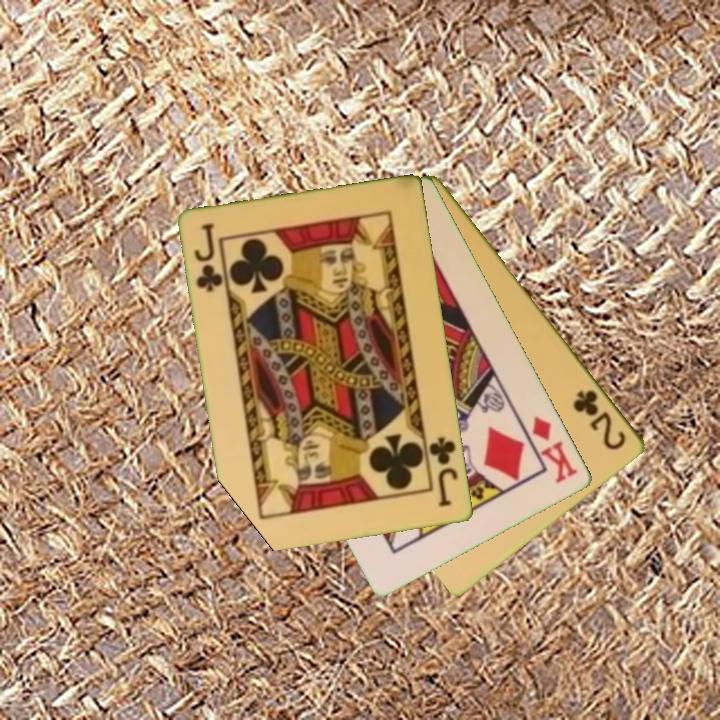2c: (570, 386, 630, 453)
Jc: (426, 434, 461, 510), (191, 220, 226, 295)
Kd: (529, 412, 582, 487)
